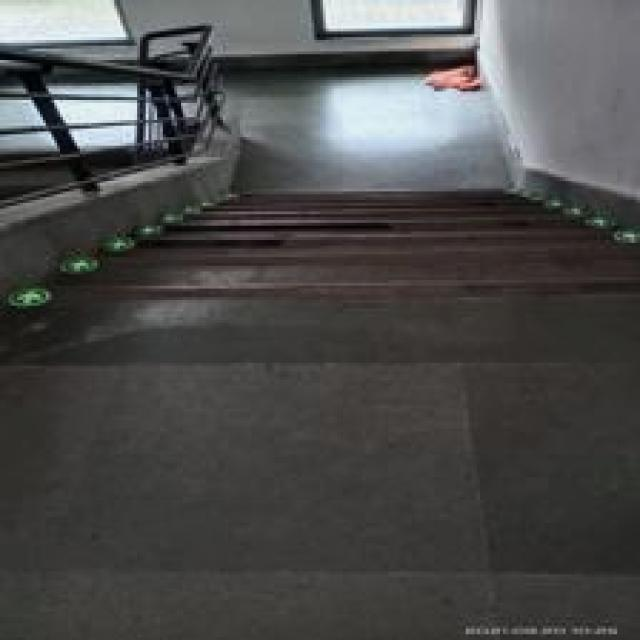downstair: (136, 173, 573, 336)
